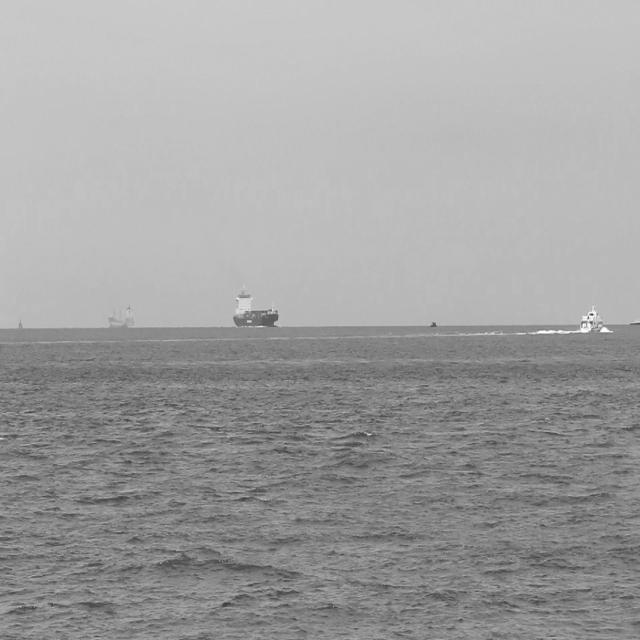ship: (232, 278, 281, 330), (578, 299, 608, 337), (107, 296, 138, 329), (628, 313, 640, 327)
